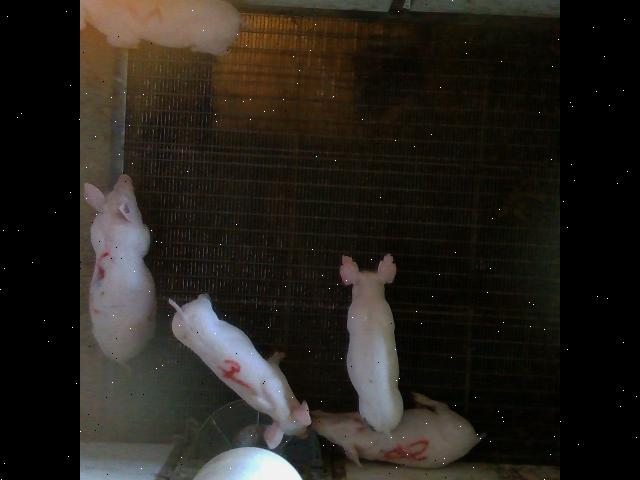pig-2: (81, 0, 242, 54)
pig-3: (84, 174, 155, 362)
pig-4: (169, 294, 311, 448)
pig-5: (311, 391, 486, 466)
